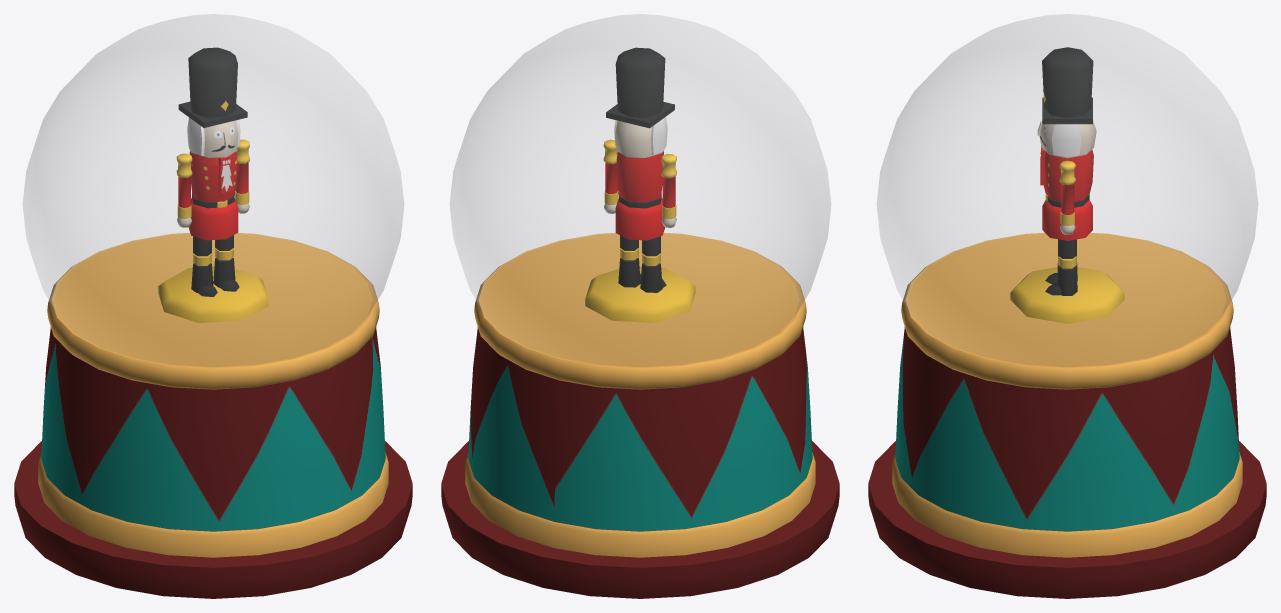
The model's file is shelf_snowglobe.fbx.
3 renders of one model, left to right at view 1: azimuth 30°, elevation 25°; view 2: azimuth 150°, elevation 25°; view 3: azimuth 270°, elevation 25°, orthographic.
Visible parts, largest first — view 1: snow globe; view 2: snow globe; view 3: snow globe.
Part boxes in pixels (bbox=[...]): snow globe: bbox=[14, 14, 412, 598]; snow globe: bbox=[441, 14, 839, 598]; snow globe: bbox=[868, 14, 1266, 598].
Bounding box in the file's own units: 24.6 × 33.93 × 24.6.
